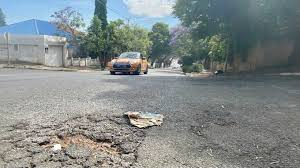pothole: (5, 105, 158, 168)
